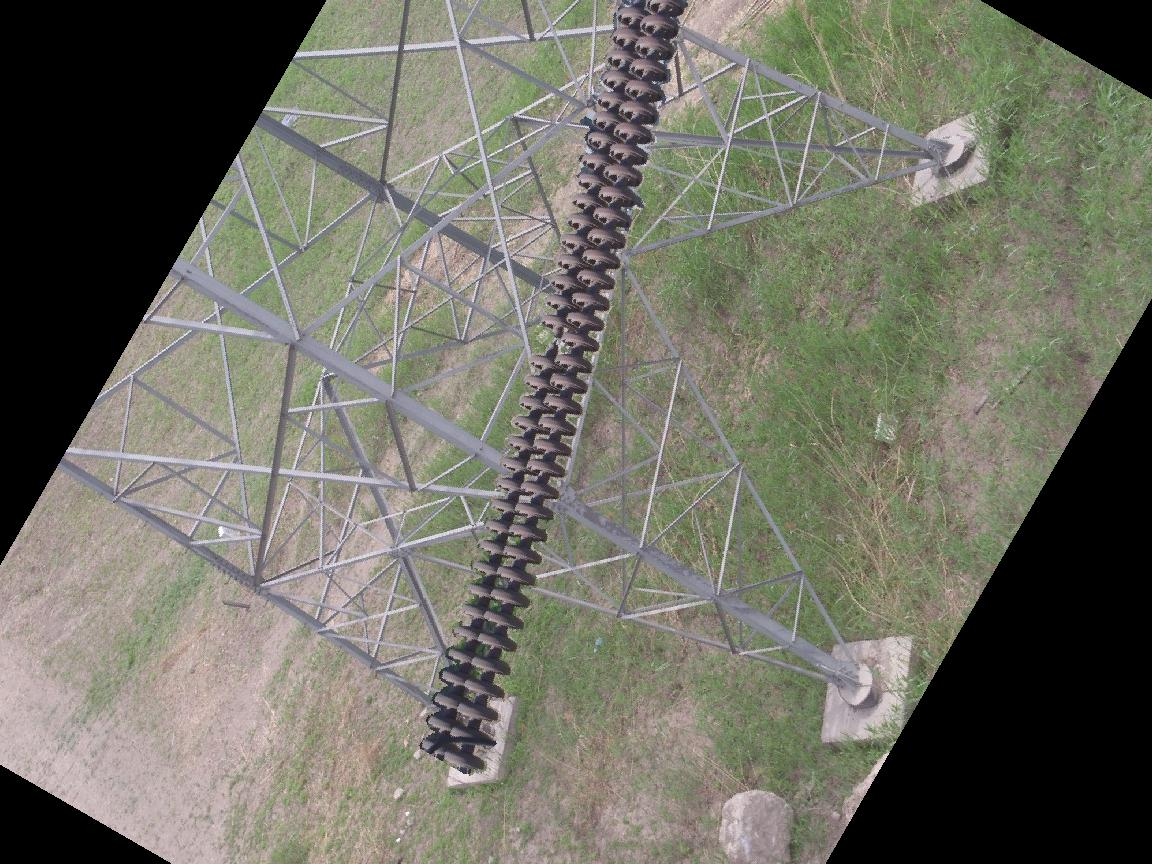insulator: (410, 1, 695, 777)
insulator_stringdrop: (526, 311, 570, 374)
